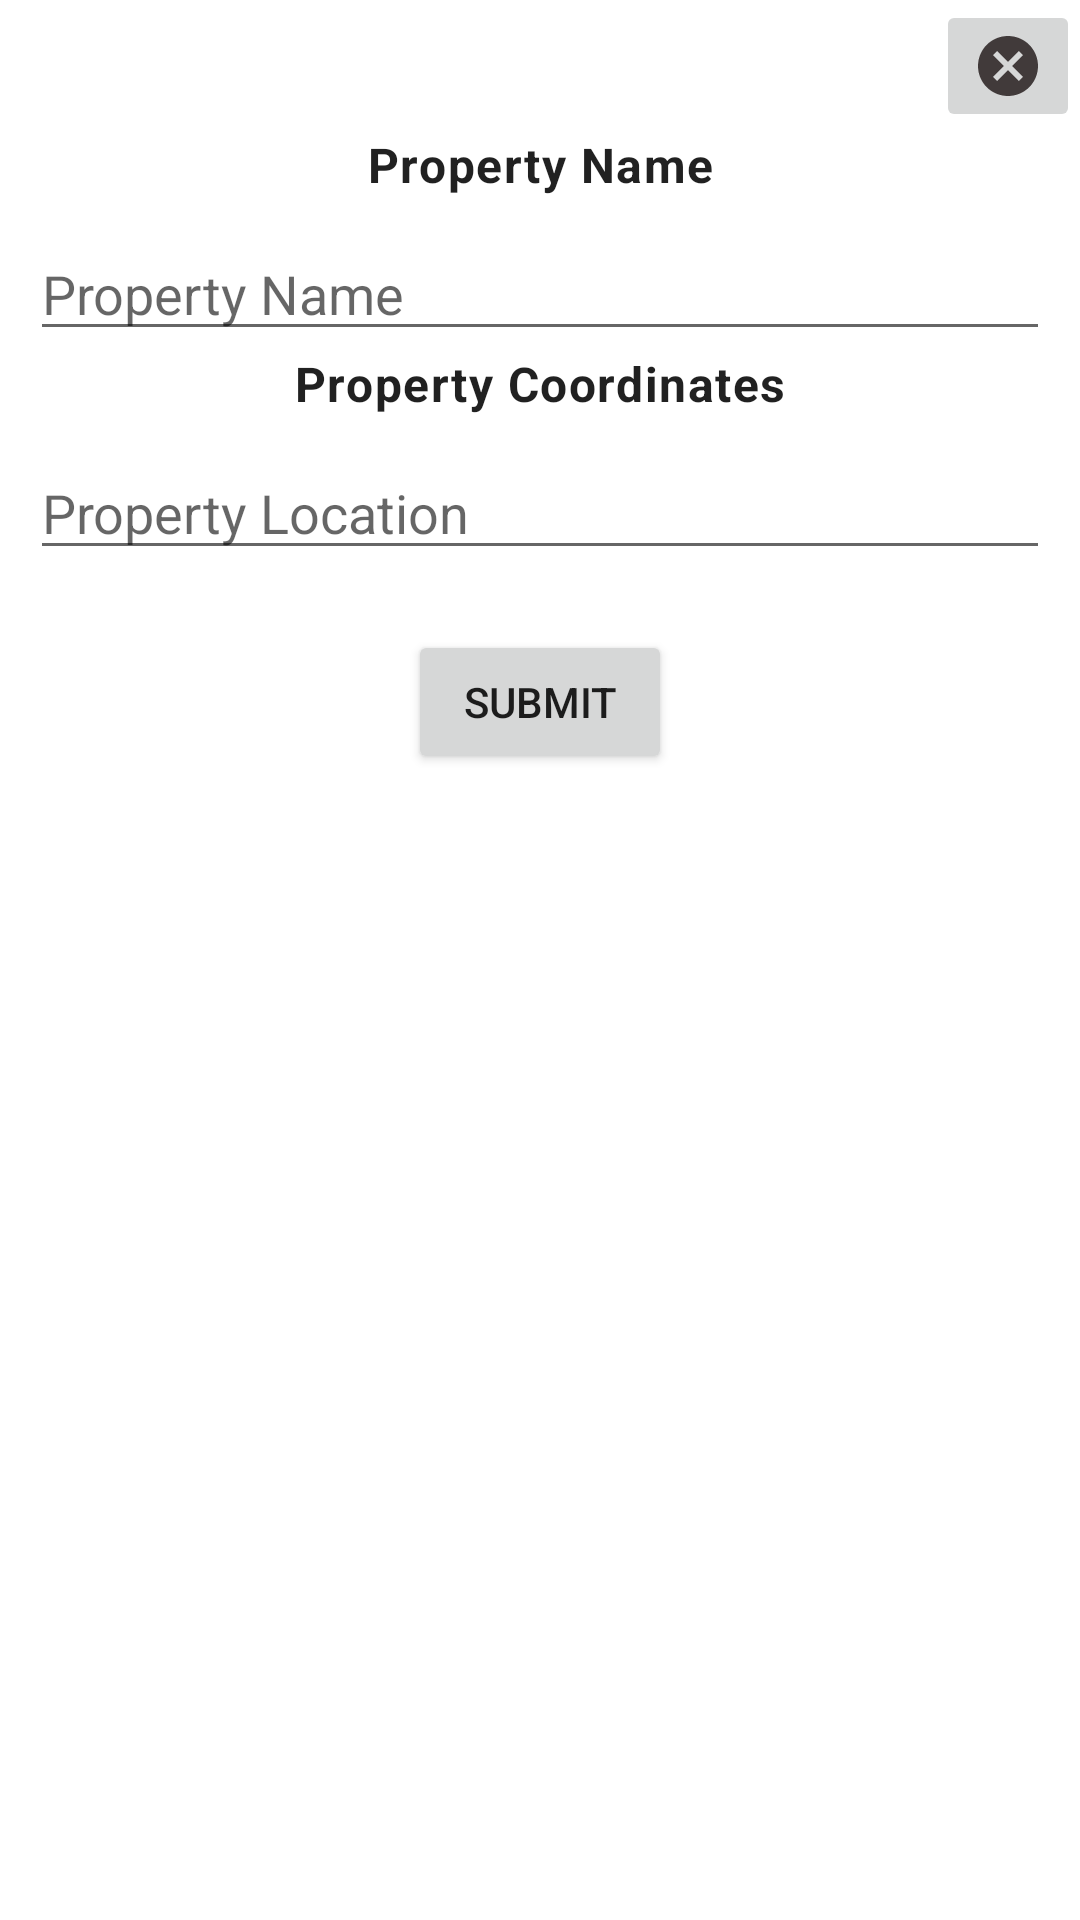

Where icons sit on this 1080px x 1920px app screen, as bbox(x1, y1, x2, y2):
cancel: bbox(948, 18, 1068, 114)
